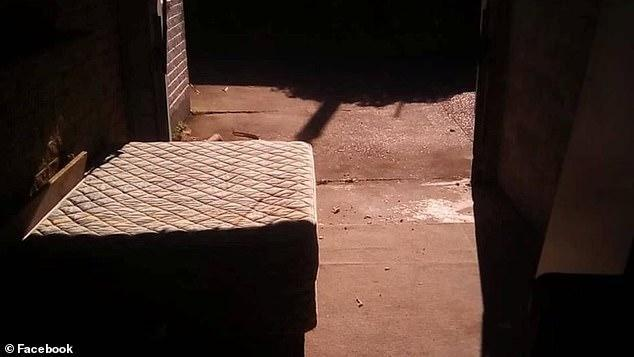Bed-Mattress: (16, 136, 322, 279)
